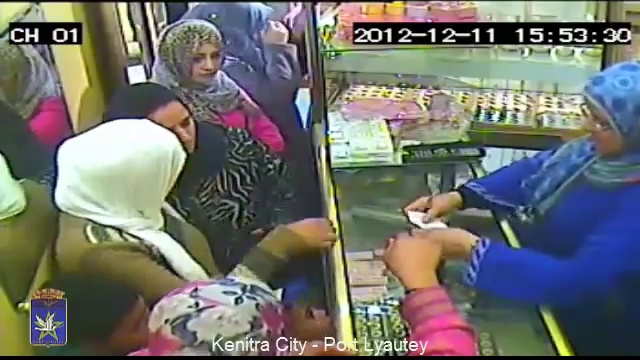face: (581, 98, 630, 158), (291, 294, 336, 339), (156, 106, 199, 151), (186, 49, 219, 78)
